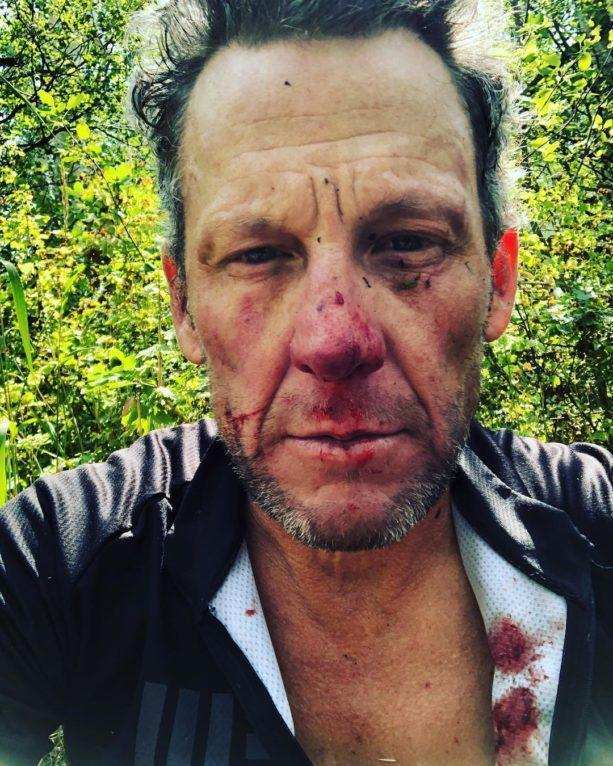Fire: (224, 260, 446, 494), (486, 604, 566, 766)
